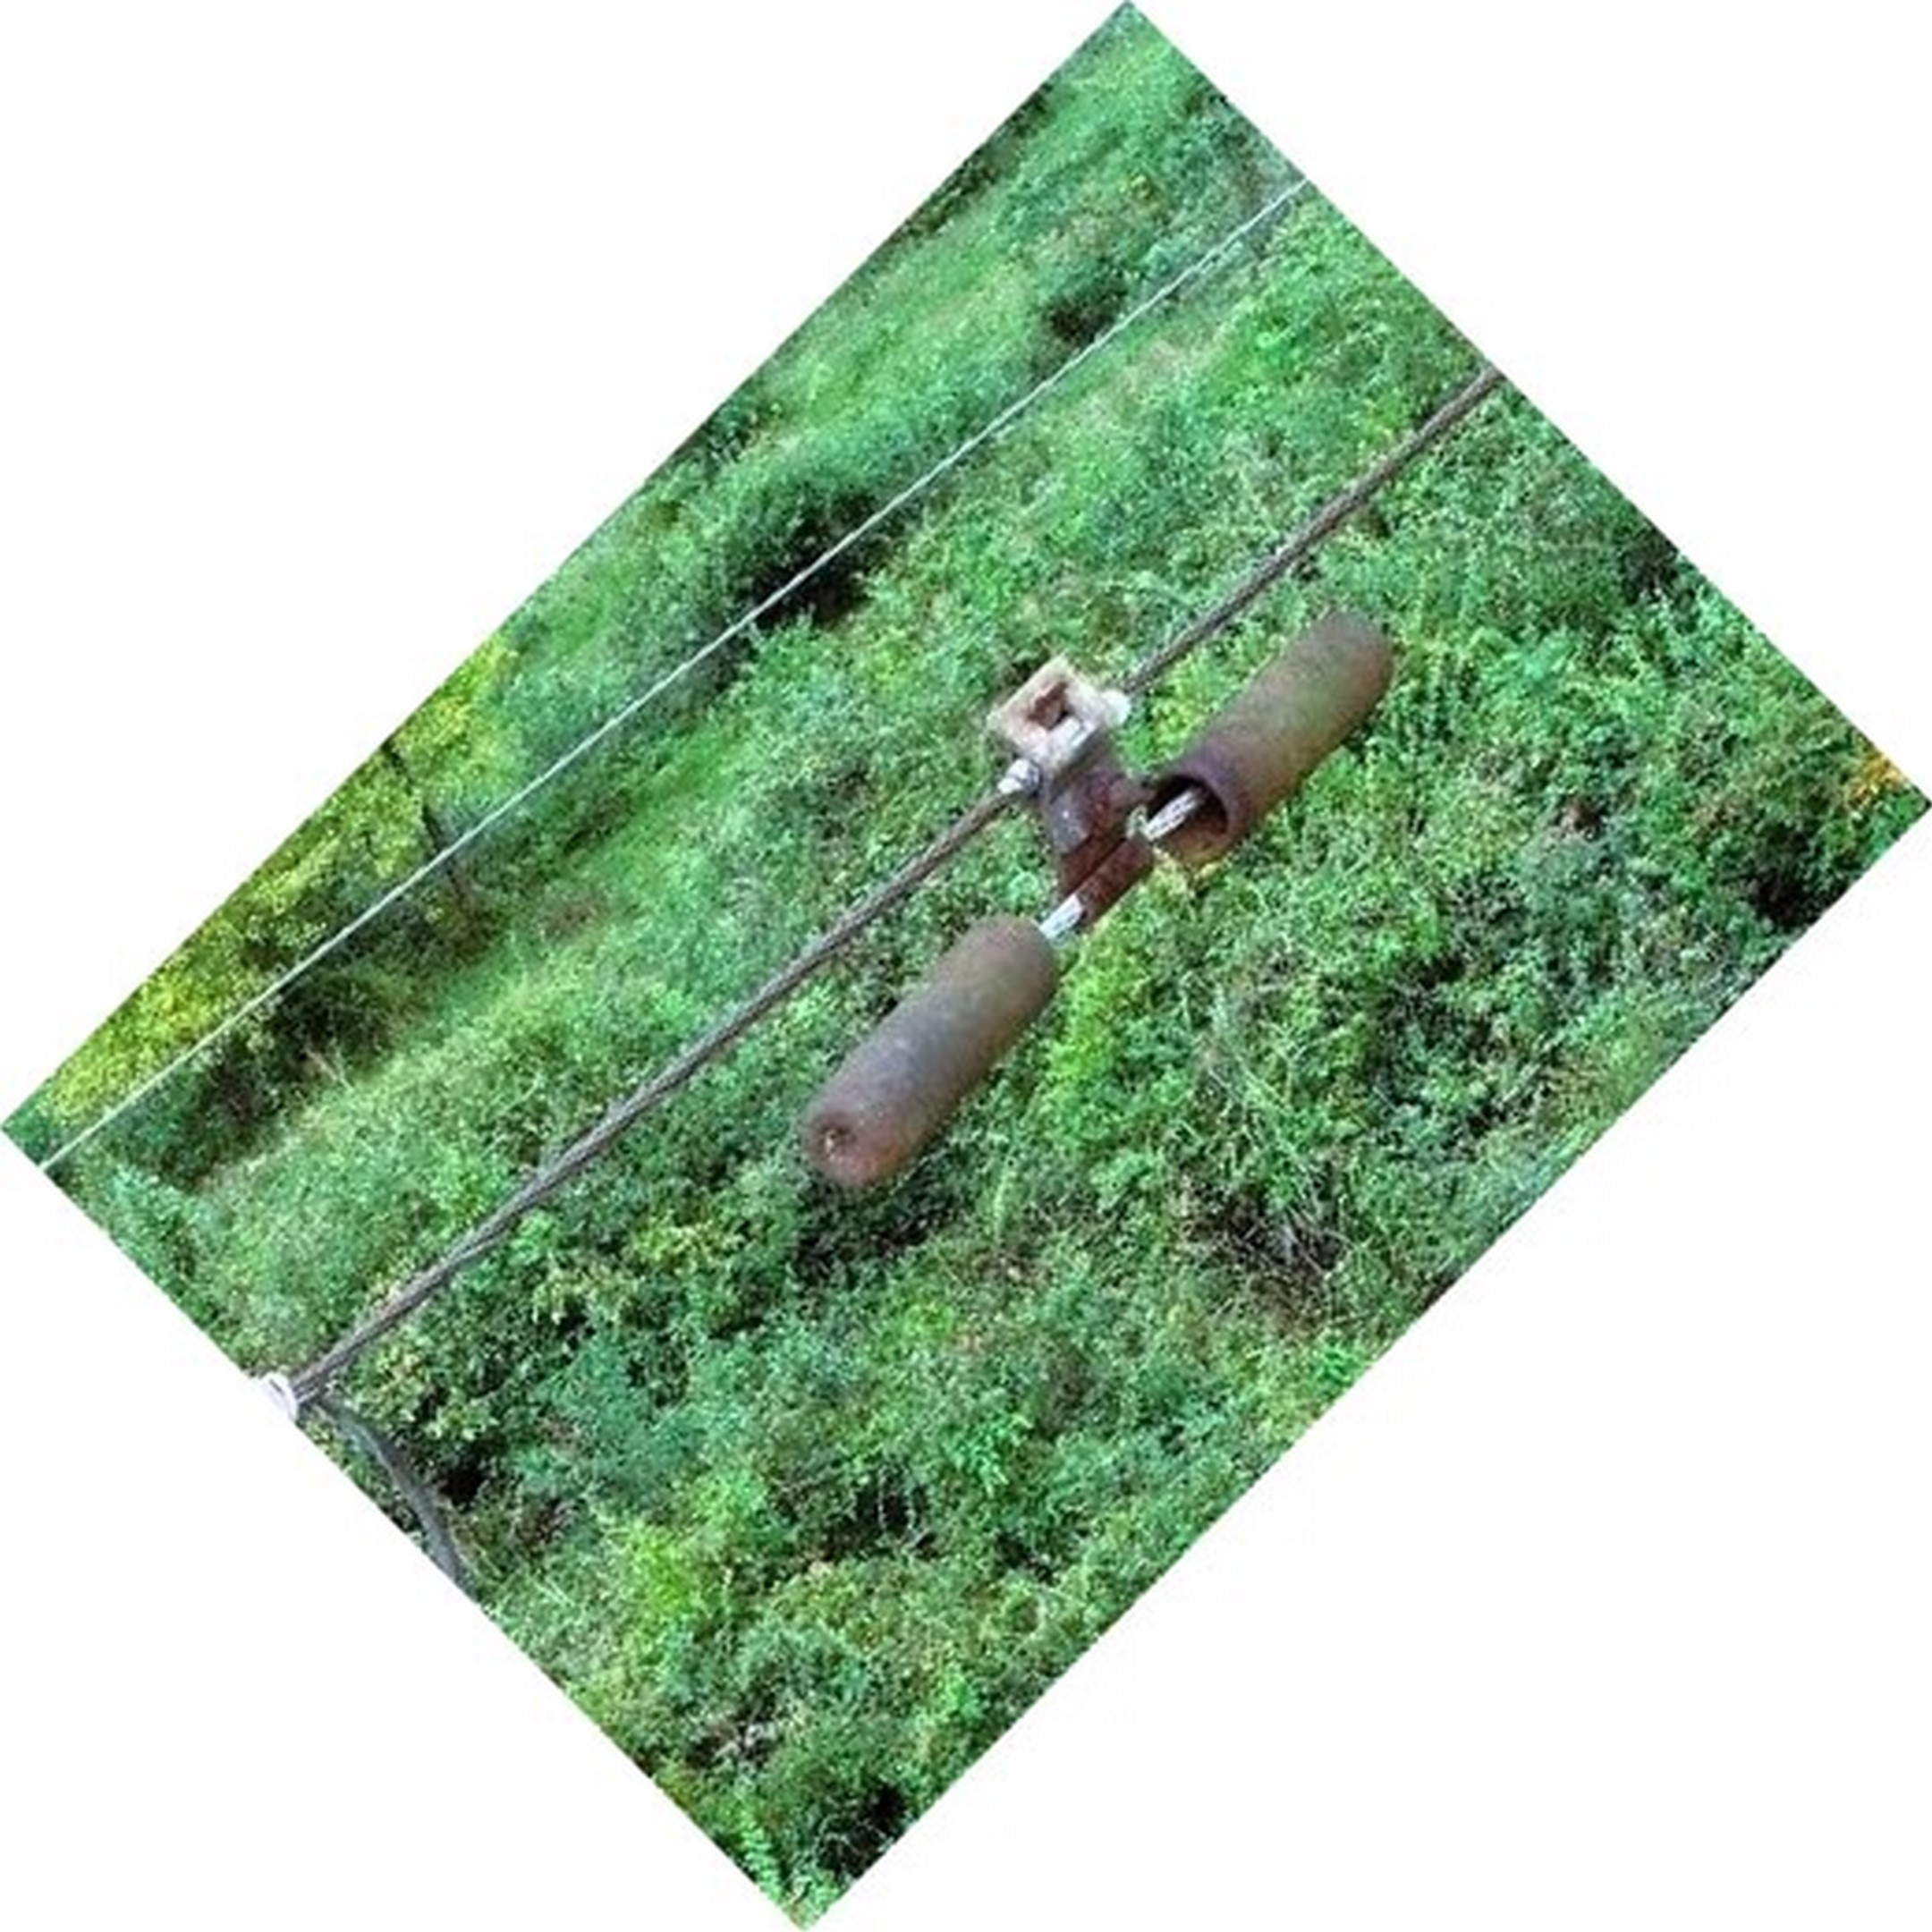Shockproof hammer: (759, 538, 1414, 1201)
